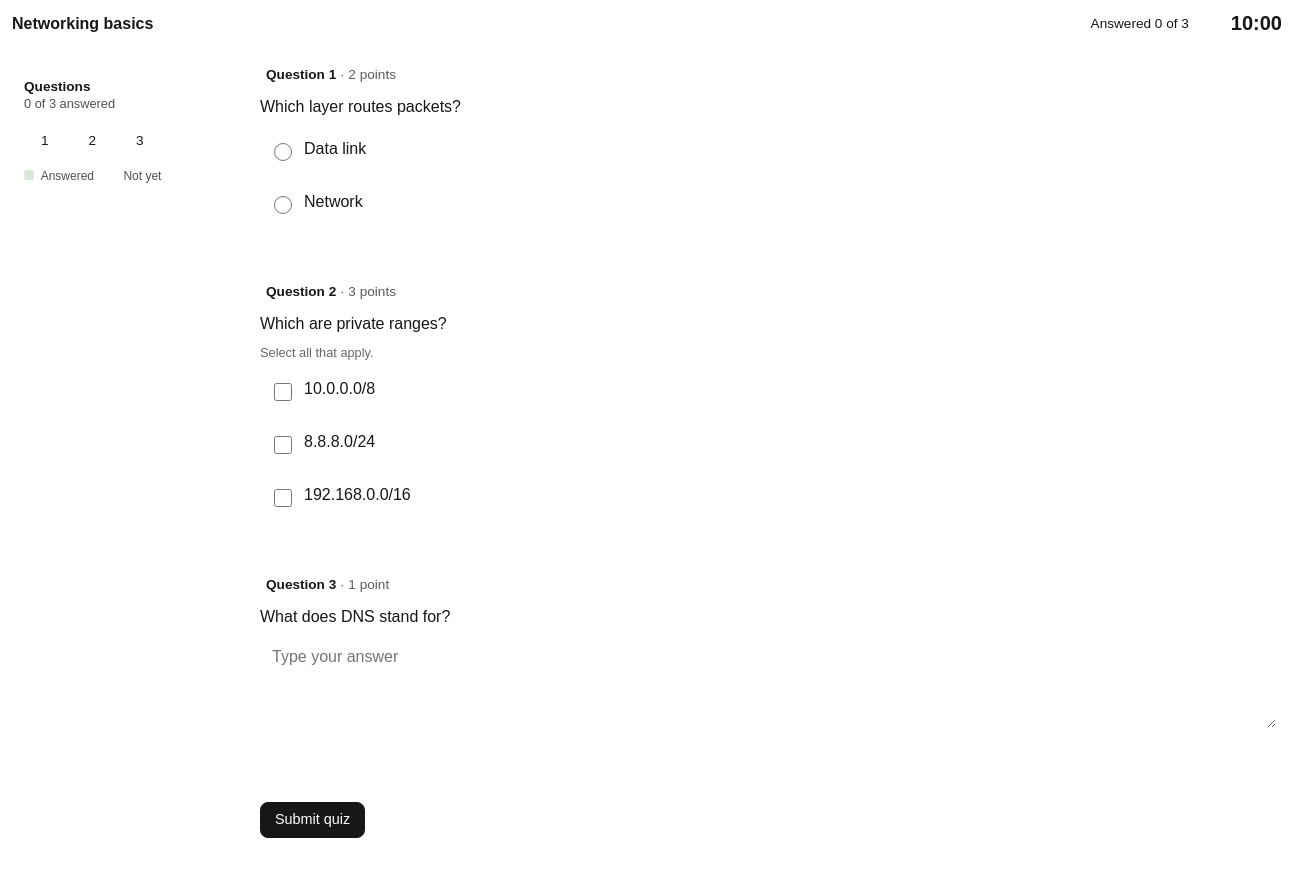
AttemptRunner › locks the quiz when the server says the attempt is closed
Click the radio button labelled "Network" at (283, 205), box [274,196,292,214]
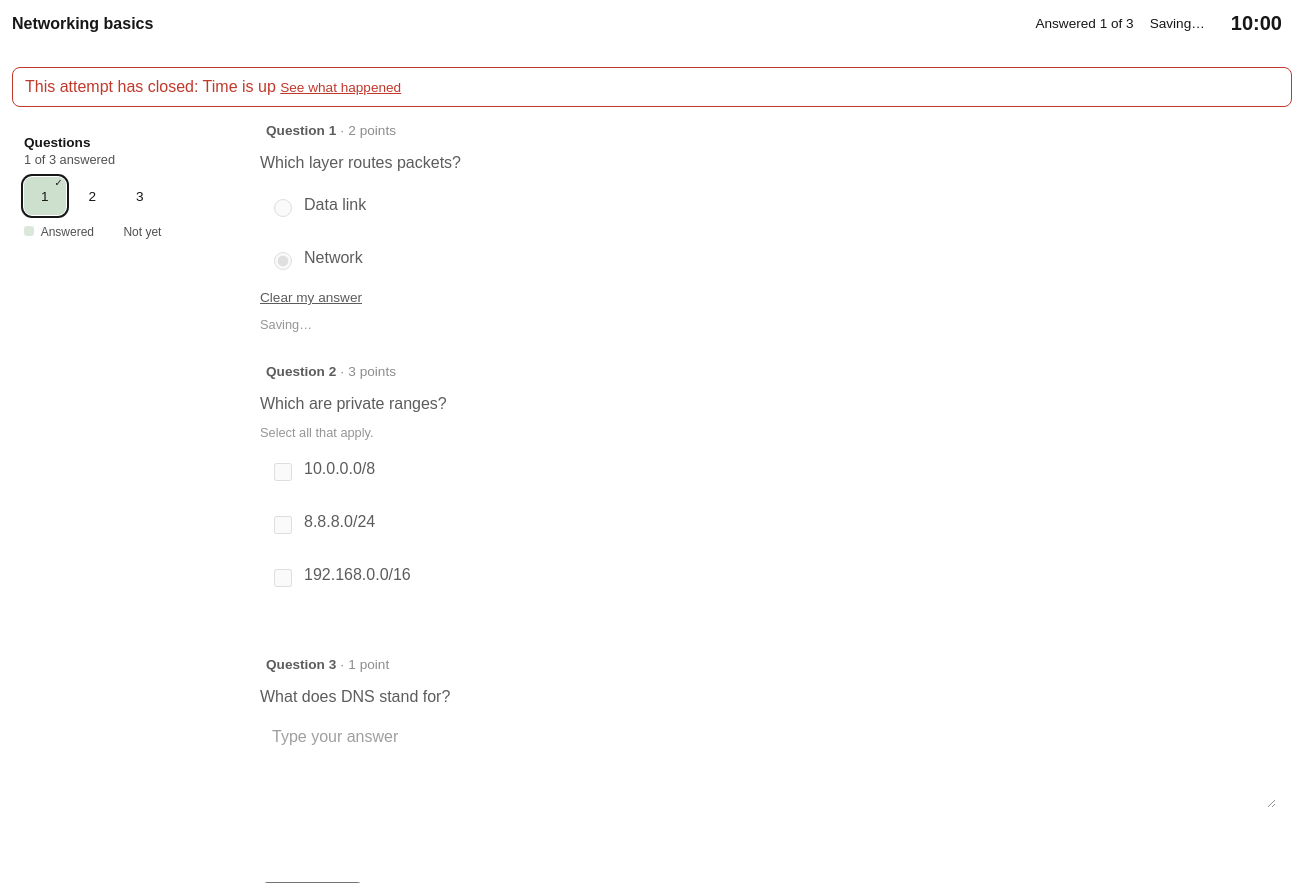
Expected: the text "This attempt has closed: Time is up See what happened" is shown, [12,67,1291,107]
